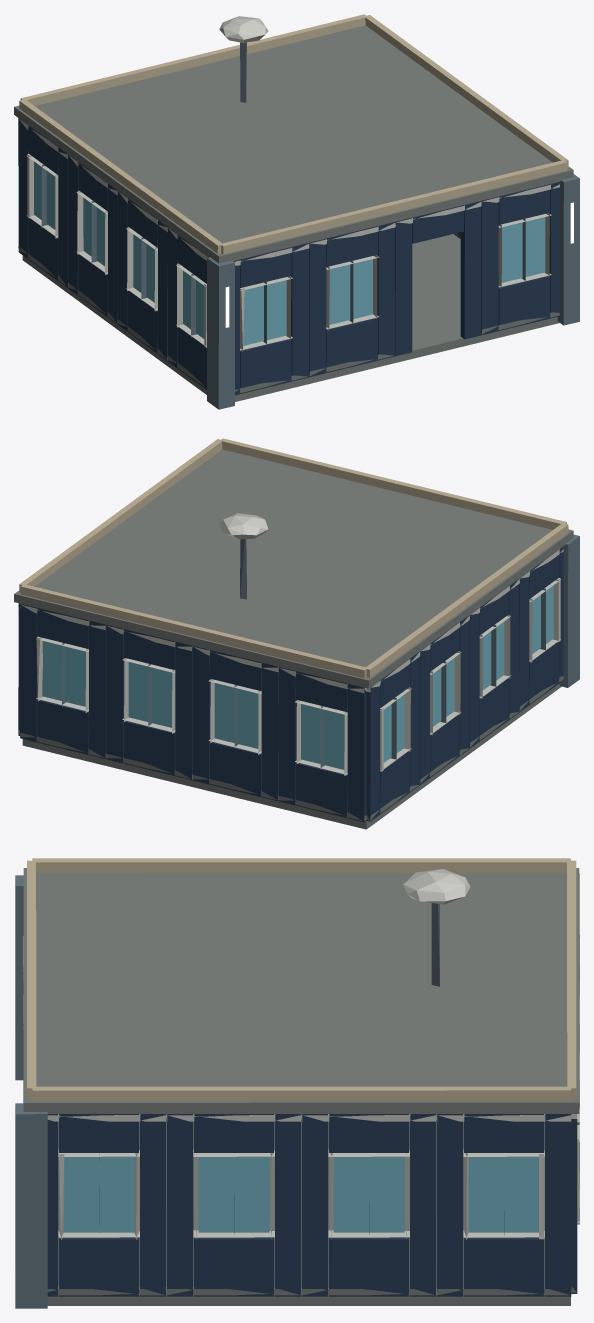
Rendered from architecture-outpost.lod2.glb.
3 renders of one model, top to bottom at view 1: azimuth 30°, elevation 25°; view 2: azimuth 150°, elevation 25°; view 3: azimuth 270°, elevation 25°, orthographic. The views are drawn at different scales.
Visible parts, largest first — view 1: architecture-outpost__body; view 2: architecture-outpost__body; view 3: architecture-outpost__body.
Boxes of the visible parts, x1,y1,x2,y2 form: architecture-outpost__body: (14,14,579,409); architecture-outpost__body: (14,438,579,829); architecture-outpost__body: (15,858,579,1308).
Bounding box in the file's own units: 8.38 × 5.17 × 8.38.
